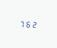seven: (18, 19, 23, 27)
six: (25, 19, 30, 28)
two: (31, 20, 36, 28)
